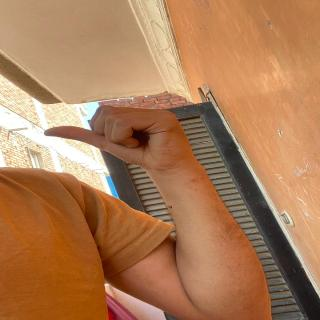WAW: (40, 97, 187, 173)
